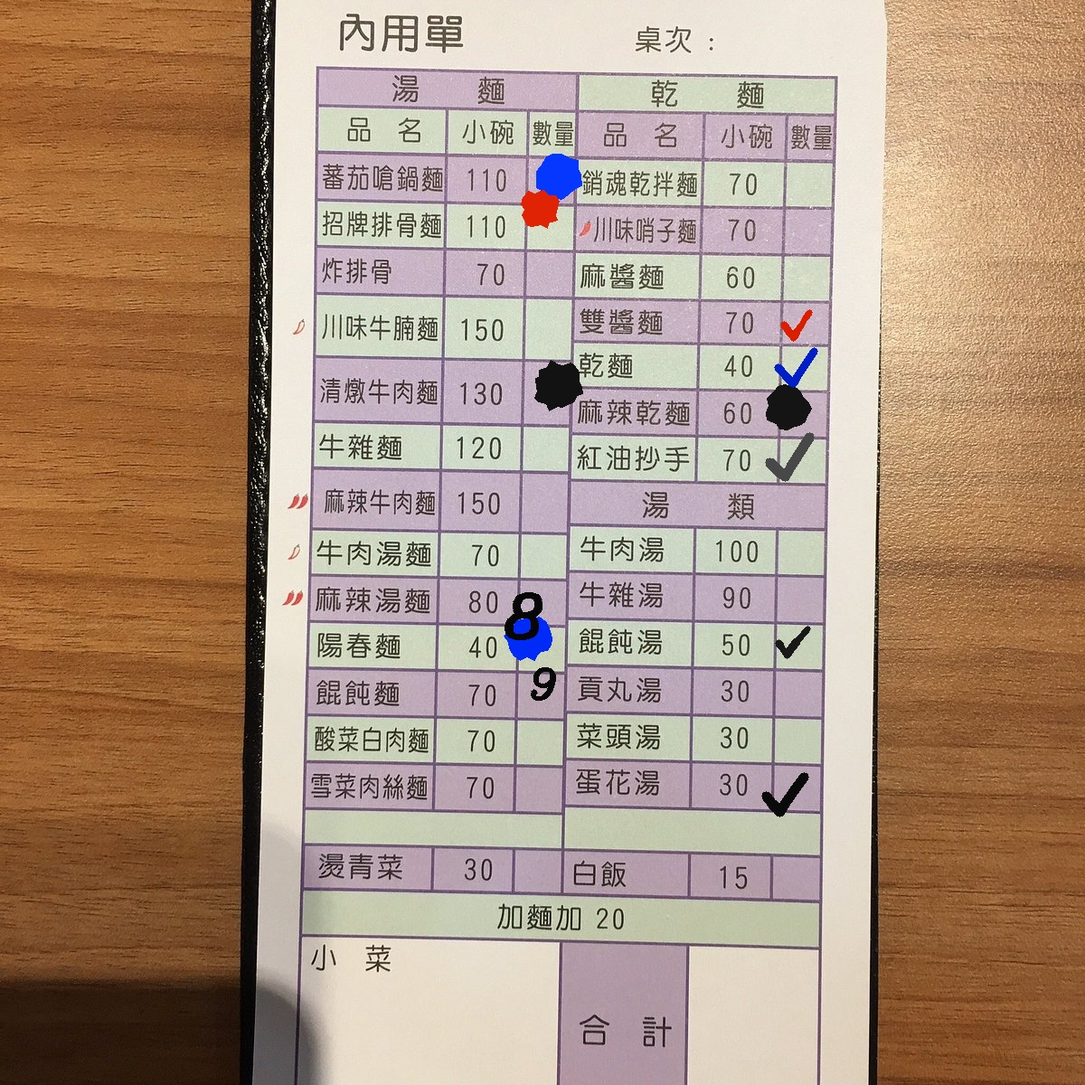marked_circle: (521, 360, 567, 422), (525, 156, 573, 203), (525, 203, 573, 250), (780, 388, 828, 434), (517, 623, 565, 669)
marked_number_8: (517, 580, 565, 626)
marked_number_9: (517, 670, 565, 716)
marked_tick: (780, 344, 828, 391), (780, 298, 828, 344), (778, 436, 826, 482), (772, 765, 820, 811), (775, 623, 823, 669)
